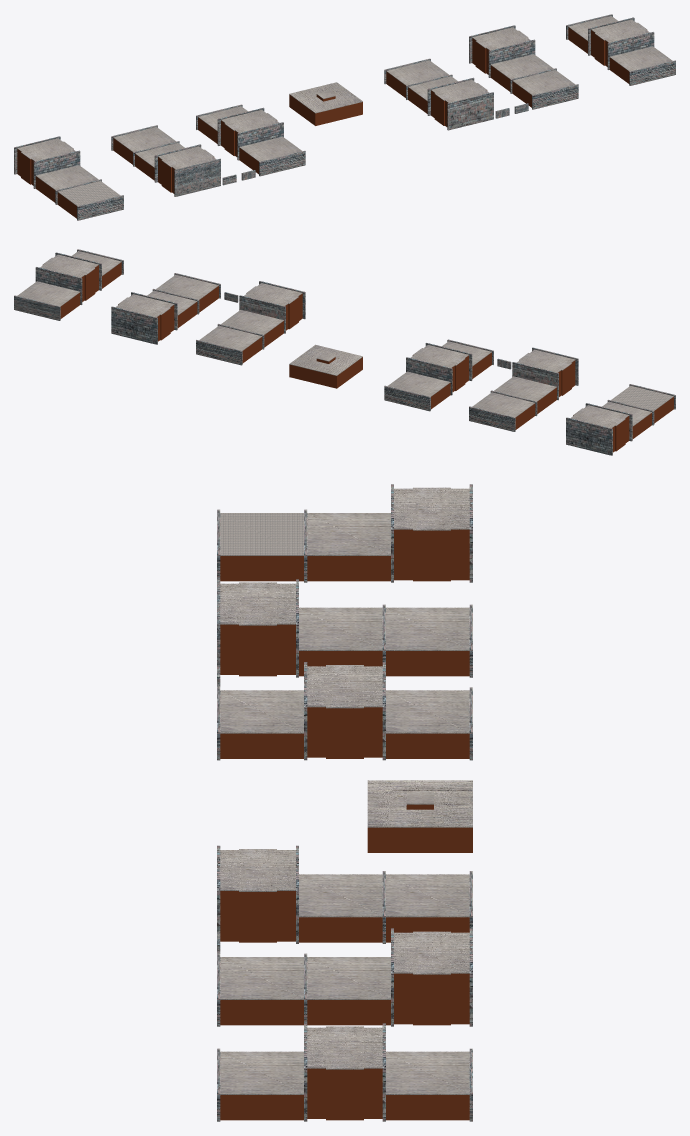
The model's file is building.obj.
3 renders of one model, top to bottom at view 1: azimuth 30°, elevation 25°; view 2: azimuth 150°, elevation 25°; view 3: azimuth 270°, elevation 25°, orthographic. The views are drawn at different scales.
Bounding box in the file's own units: 93.89 × 4.01 × 17.38.
Materials: 5 (4 with a texture image).
